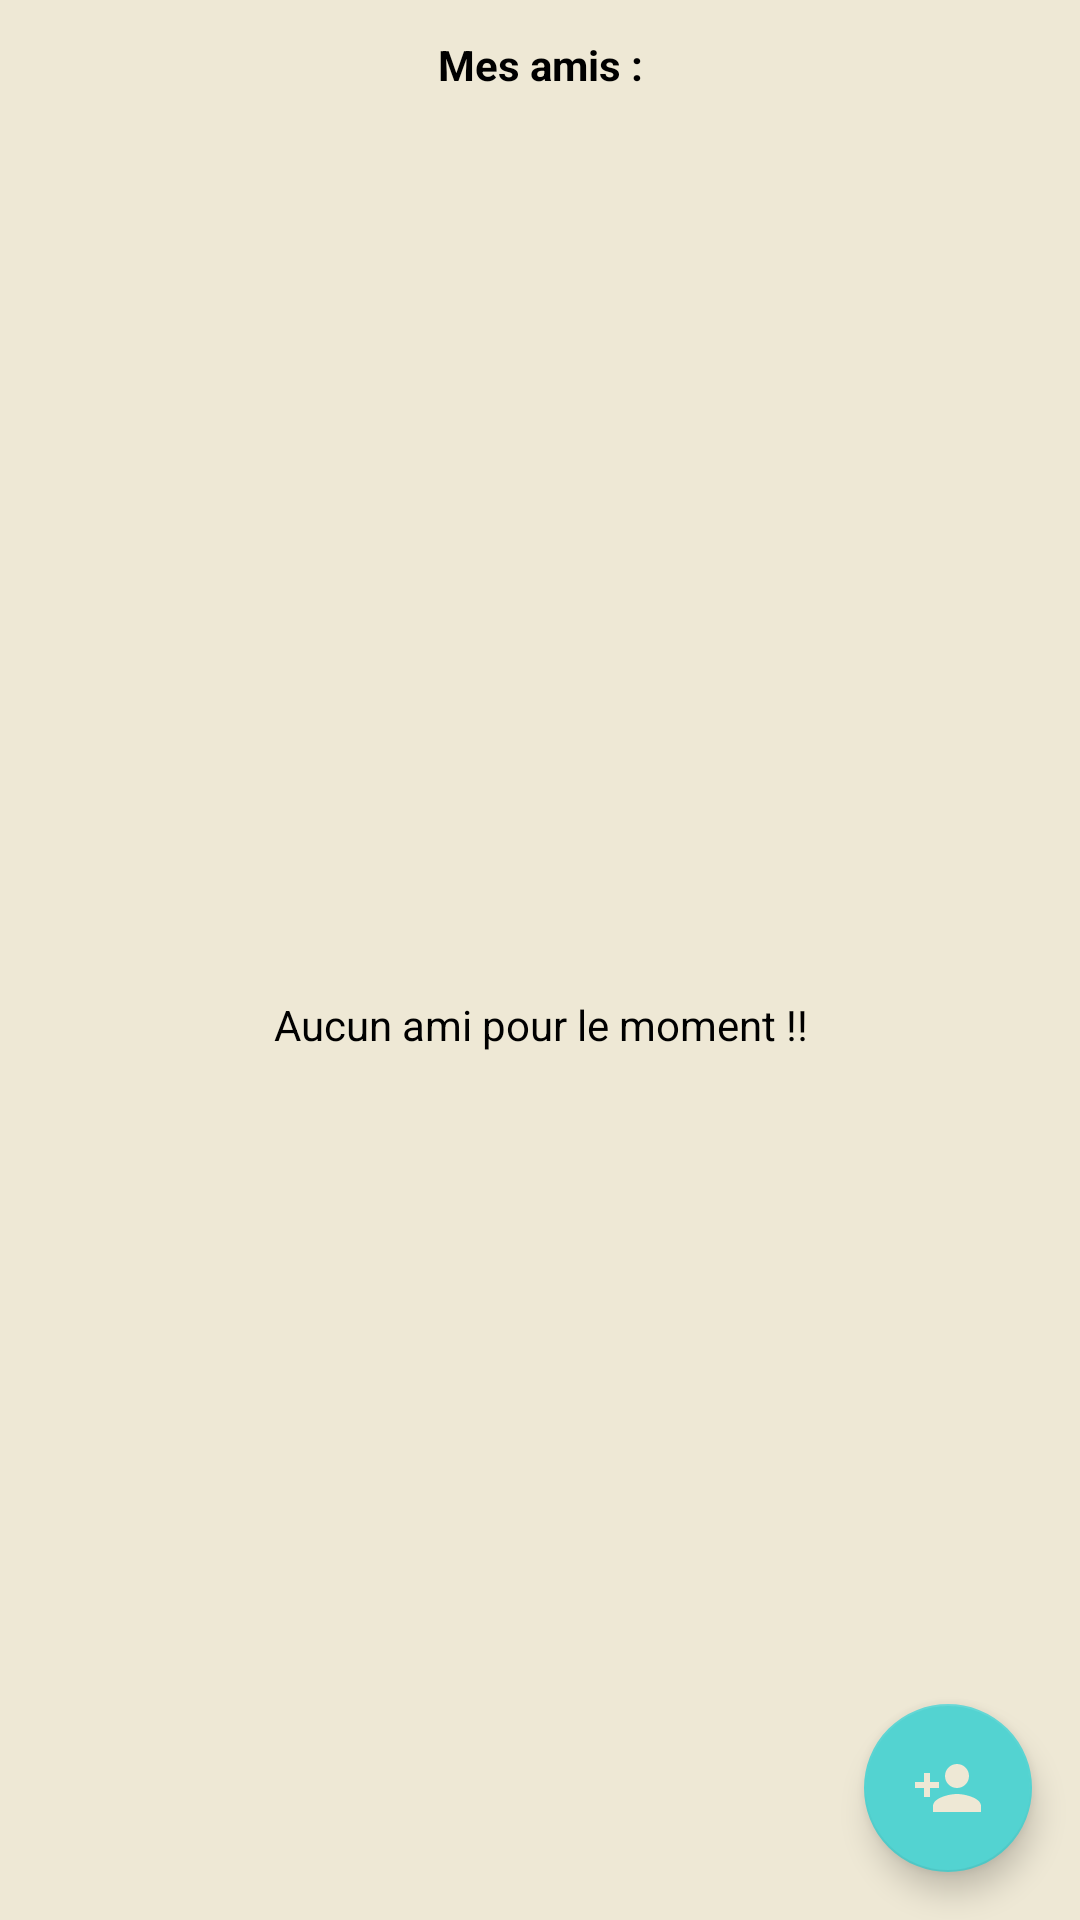

Screen size 1080x1920. Icon name, then its center in pixels as (x,y):
add friends taupe: (948,1788)
